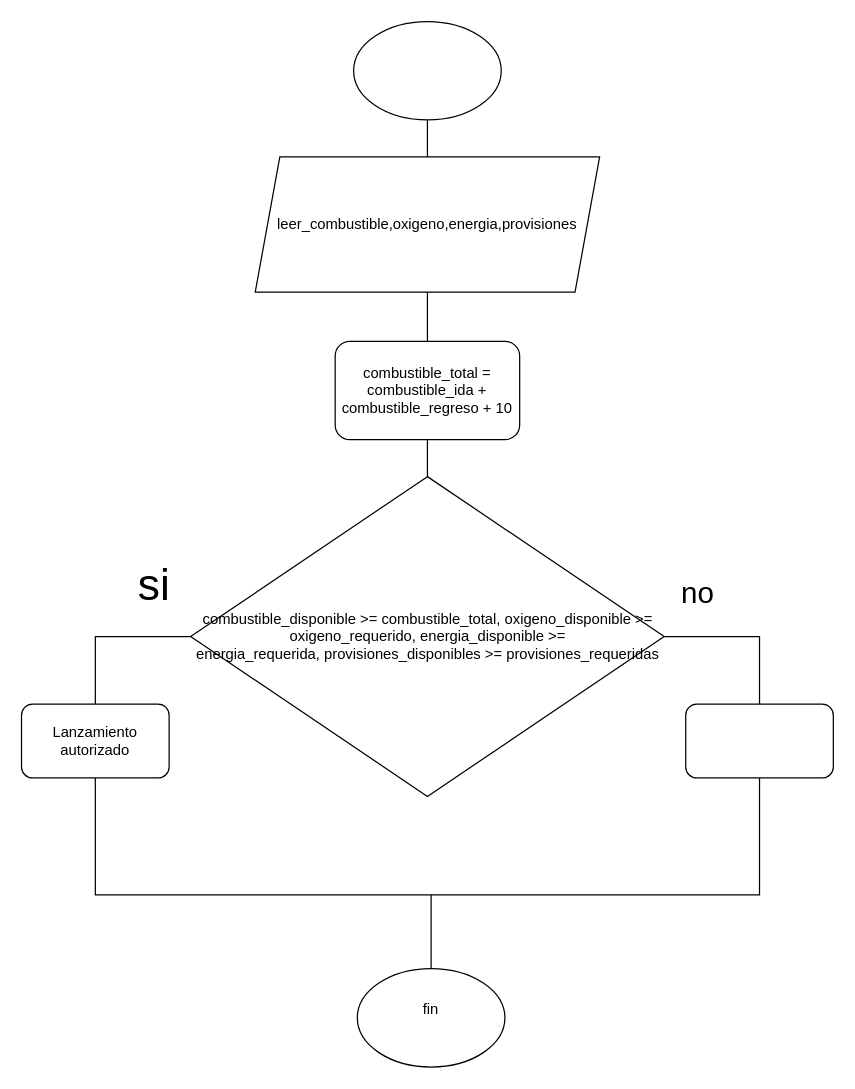
Image size: 855x1089. Some labels were removed from this diagram. Each missing label, with the centre of its shape:
"inicio" goes at pixel 426 70.
"Lanzamiento no Autorizado,la mision debe ser revisada" goes at pixel 758 740.
